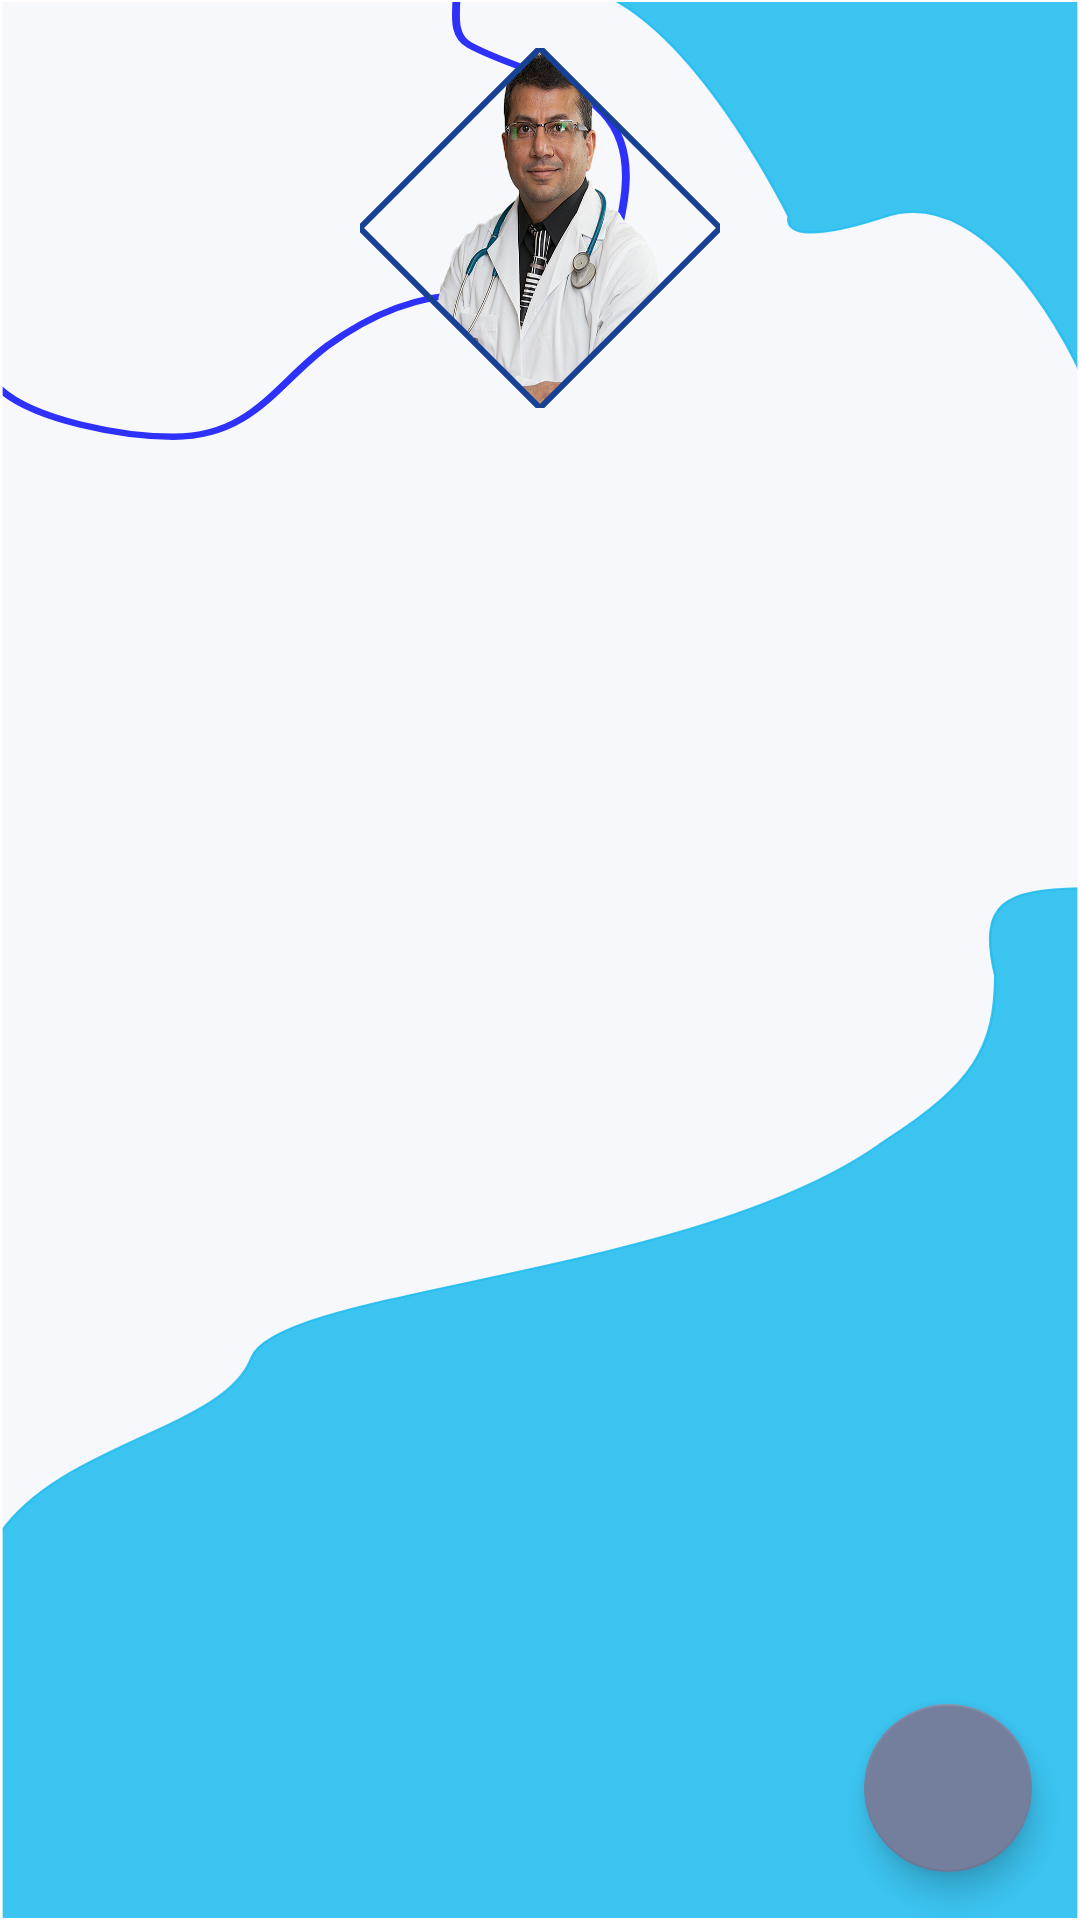

Point at icon controls on the screen. Image size 1080px×1920px, points as [x,y].
doc: [540,228]
